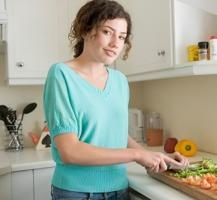person without safety: (43, 1, 137, 200)
